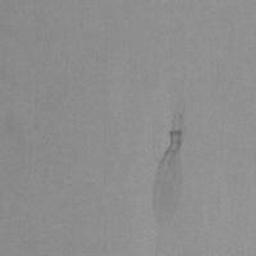Water spot: (151, 100, 187, 228)
